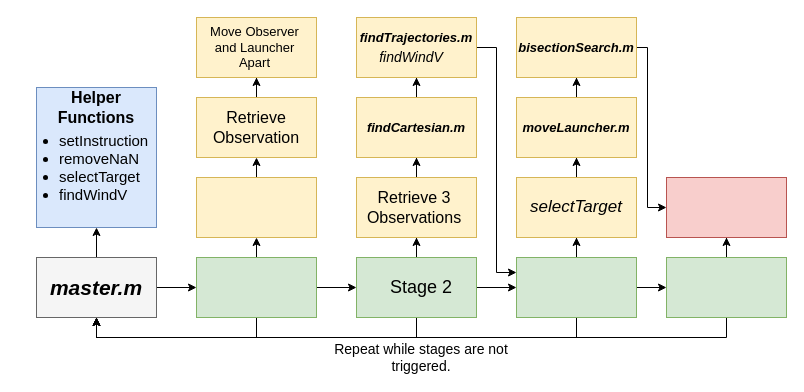
Some shapes in this 804 by 392 pixel diagram are drawn without their labels. Each missing label, with the box of its shape:
Establish connection to server: (196, 176, 316, 238)
Launch Projectile: (666, 176, 786, 238)
Stage 1: (196, 256, 316, 318)
Stage 3: (516, 256, 636, 318)
Stage 4: (666, 256, 786, 318)
